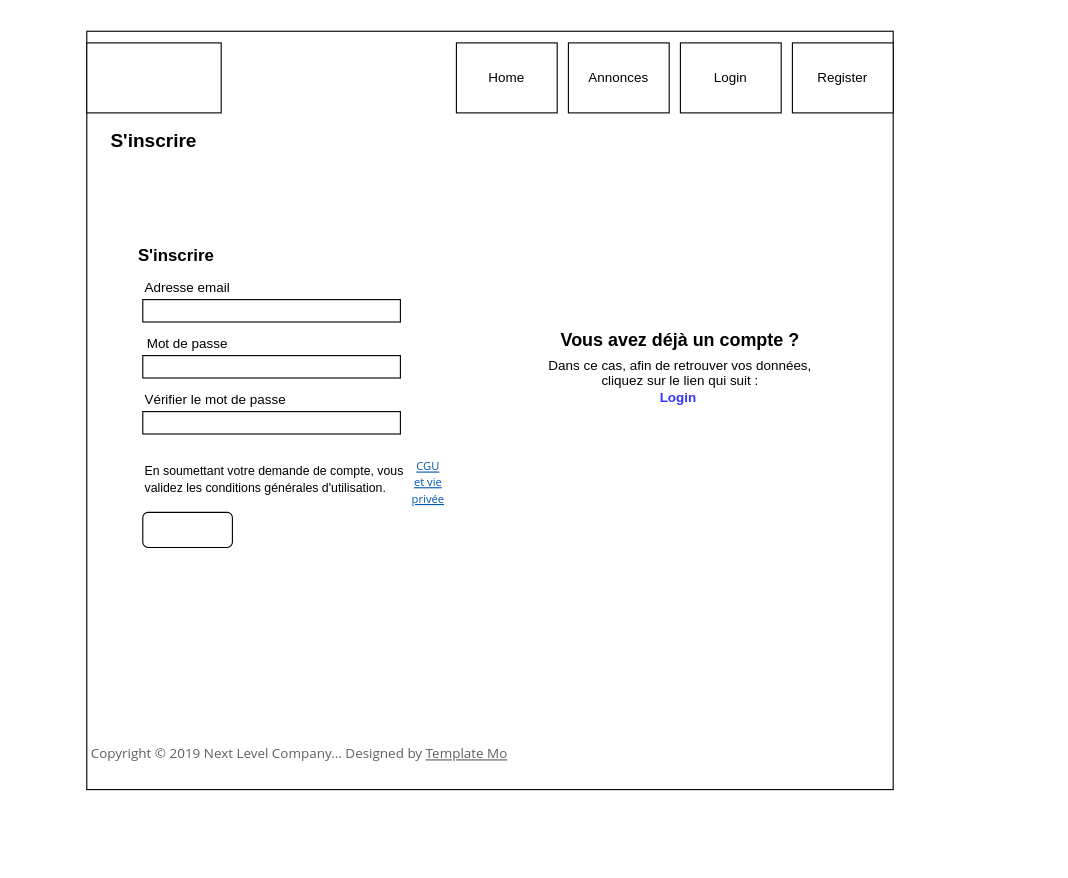
The diagram is 1068 pixels wide and 878 high, and some of its shapes have lost their labels. The centre of each missing label's shape, as x and y in pixels:
Inscrivez-vous: (x=187, y=529)
Nom / Logo: (x=153, y=77)
